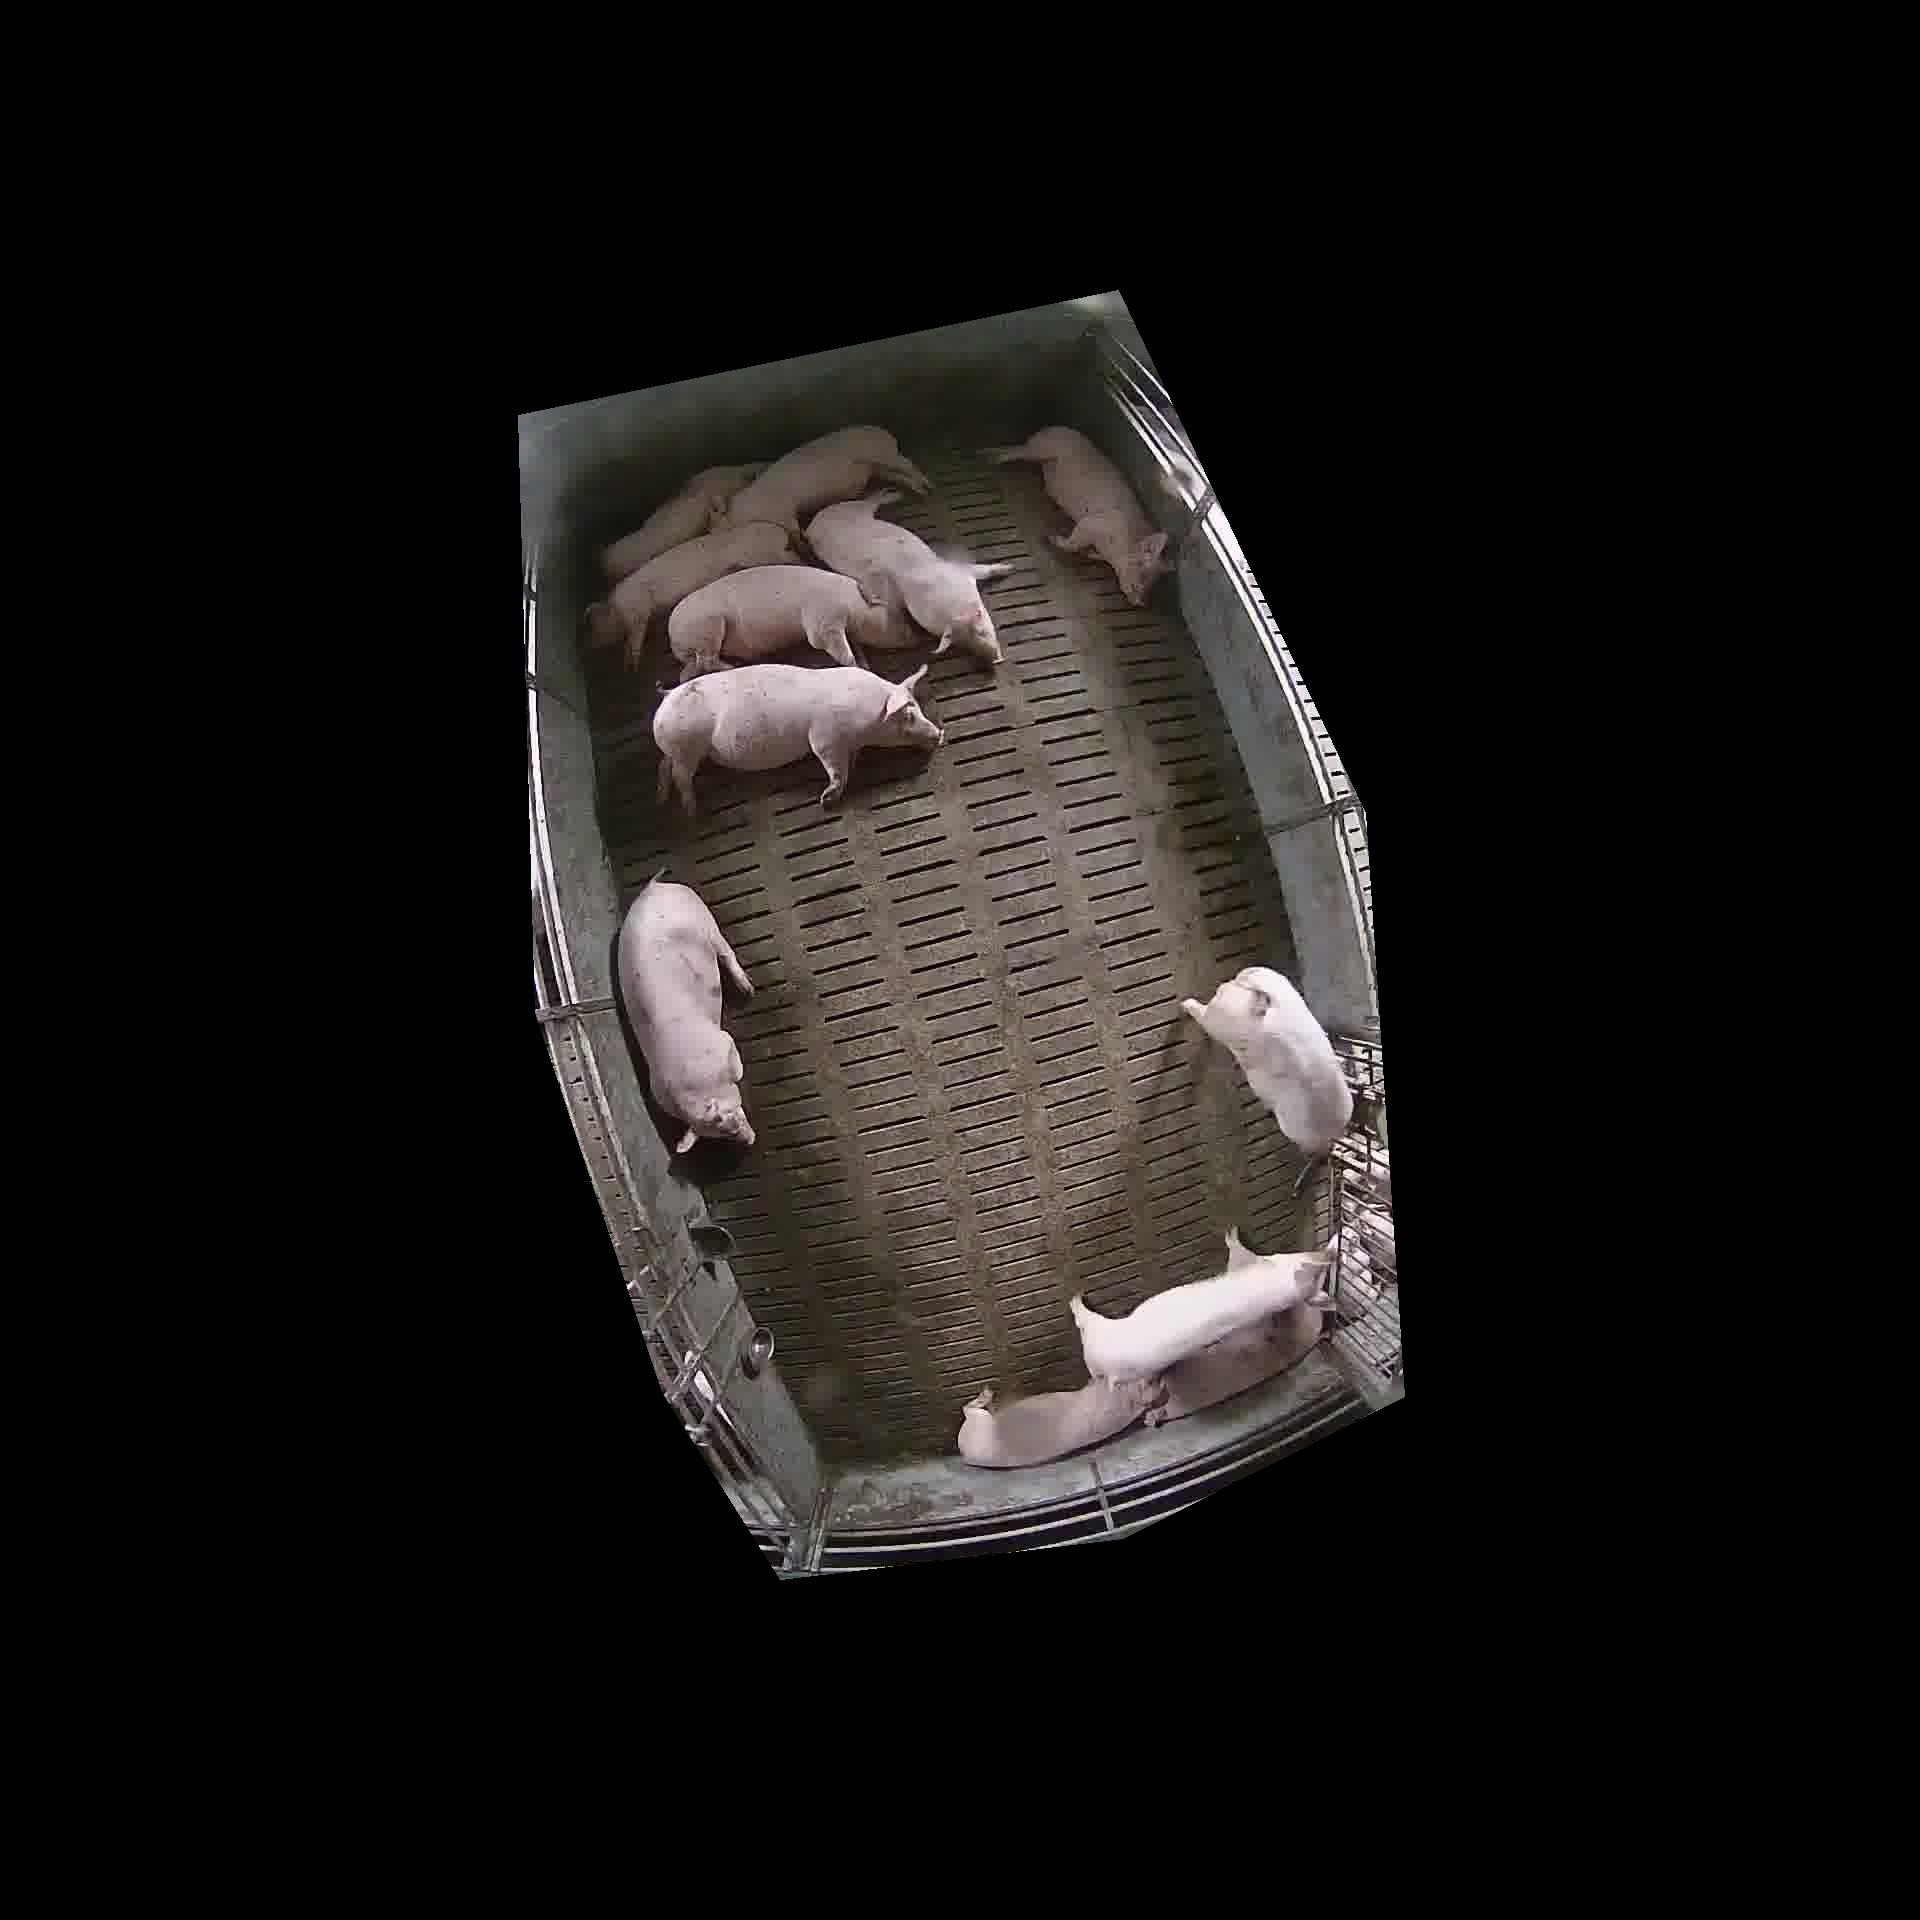pig: (652, 665, 942, 812), (617, 879, 754, 1152), (1071, 1234, 1326, 1380), (805, 492, 1009, 663), (988, 425, 1167, 605), (1183, 967, 1352, 1155), (585, 522, 796, 665), (668, 564, 870, 679), (721, 425, 928, 535), (1145, 1303, 1320, 1421), (598, 462, 765, 580), (958, 1378, 1162, 1466)
